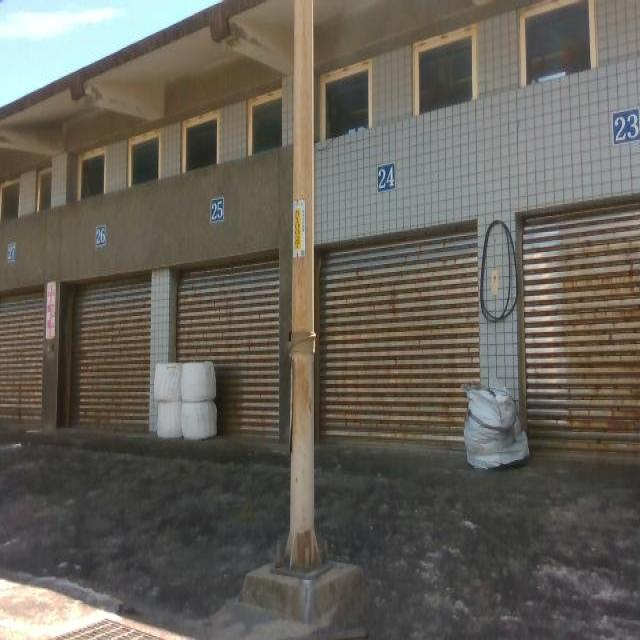pollute: (461, 377, 534, 473), (152, 360, 221, 444)
